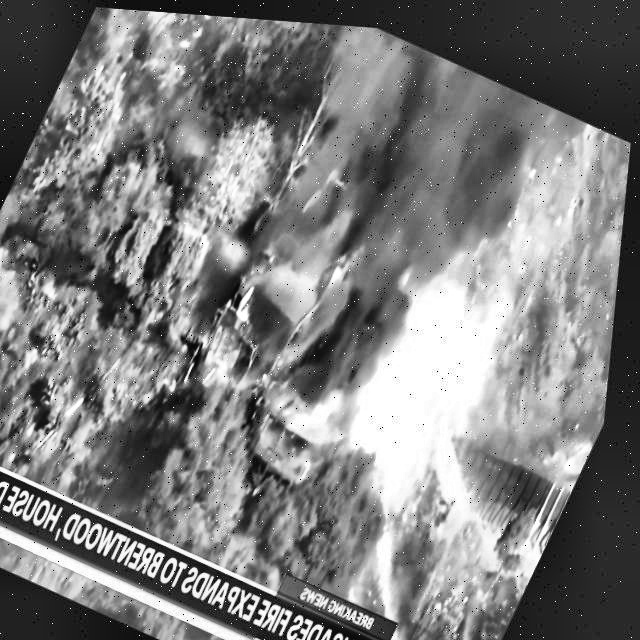Smoke: (189, 13, 561, 434)
